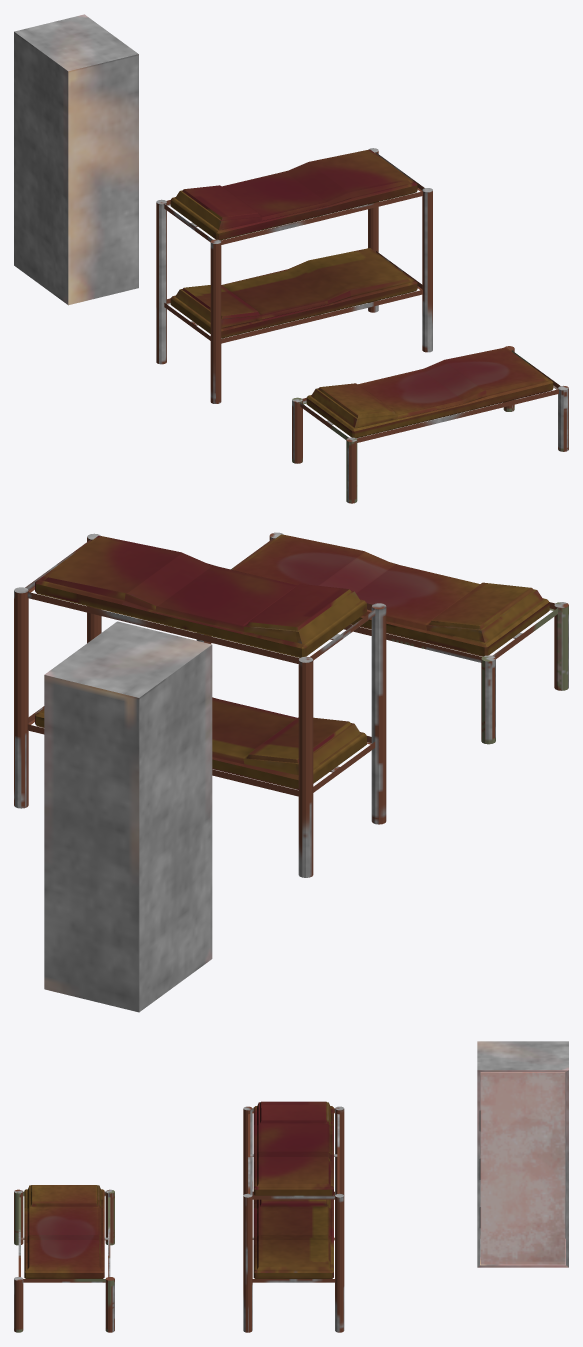
Rendered from Interactables.glb.
3 views of the same model, one above another, from view 1: azimuth 30°, elevation 25°; view 2: azimuth 150°, elevation 25°; view 3: azimuth 270°, elevation 25° (orthographic). The views are drawn at different scales.
Visible parts, largest first — view 1: LockerFrame01, FutonBed02, FutonBed01, FrameBed02, FrameBed01; view 2: LockerFrame01, FutonBed02, FutonBed01, FrameBed02, FrameBed01; view 3: LockerLid01, FutonBed02, FutonBed01, FrameBed02, LockerFrame01, FrameBed01.
Part boxes in pixels (<box>): LockerFrame01: <box>14,14,138,305</box>; FutonBed02: <box>170,149,417,338</box>; FutonBed01: <box>306,347,553,438</box>; FrameBed02: <box>156,148,432,403</box>; FrameBed01: <box>292,346,568,503</box>; LockerFrame01: <box>44,621,212,1012</box>; FutonBed02: <box>35,535,366,789</box>; FutonBed01: <box>233,534,549,656</box>; FrameBed02: <box>14,533,386,877</box>; FrameBed01: <box>196,532,568,744</box>; LockerLid01: <box>480,1072,565,1264</box>; FutonBed02: <box>253,1101,333,1278</box>; FutonBed01: <box>24,1185,104,1278</box>; FrameBed02: <box>243,1106,344,1332</box>; LockerFrame01: <box>477,1041,568,1267</box>; FrameBed01: <box>14,1189,114,1332</box>.
Size of the model in its own units: 1.94 by 1.9 by 4.84.
Materials: 9 (9 with a texture image).
